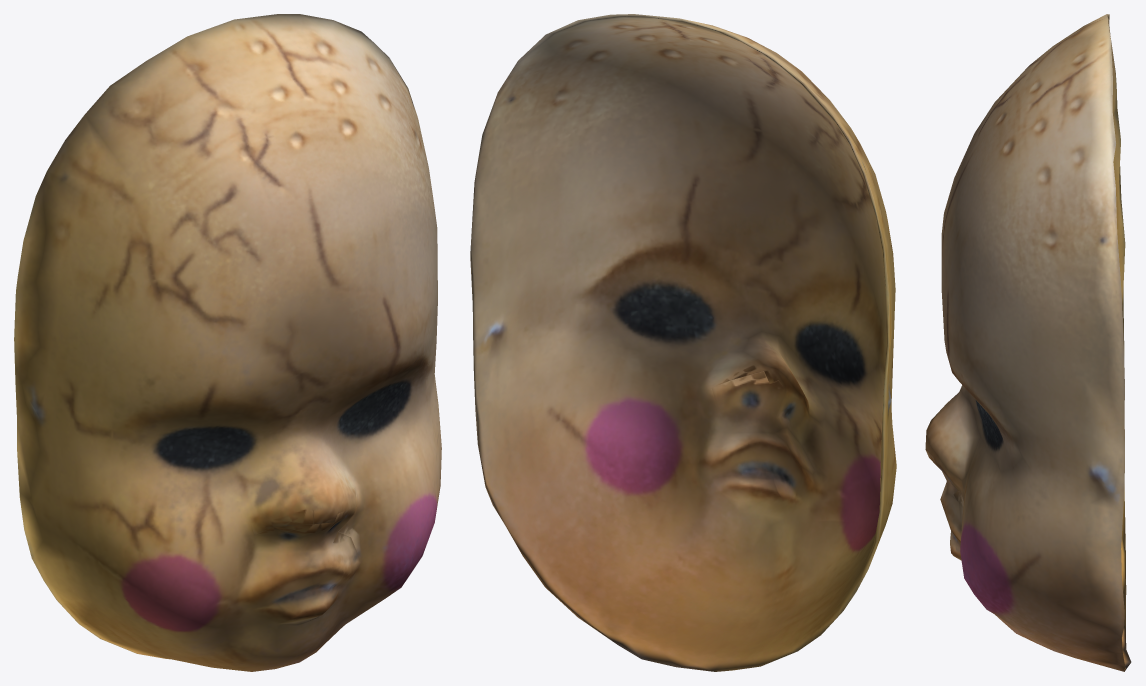
Rendered from baby_doll_mask.glb.
3 renders of one model, left to right at view 1: azimuth 30°, elevation 25°; view 2: azimuth 150°, elevation 25°; view 3: azimuth 270°, elevation 25°, orthographic. The views are drawn at different scales.
Parts seen in each view (by area): view 1: geo1; view 2: geo1; view 3: geo1.
Boxes of the visible parts, x1,y1,x2,y2 form: geo1: (14,14,441,671); geo1: (470,14,896,671); geo1: (925,14,1131,671).
Bounding box in the file's own units: 0.1684 × 0.2476 × 0.0754.
1 material, 1 textured.
